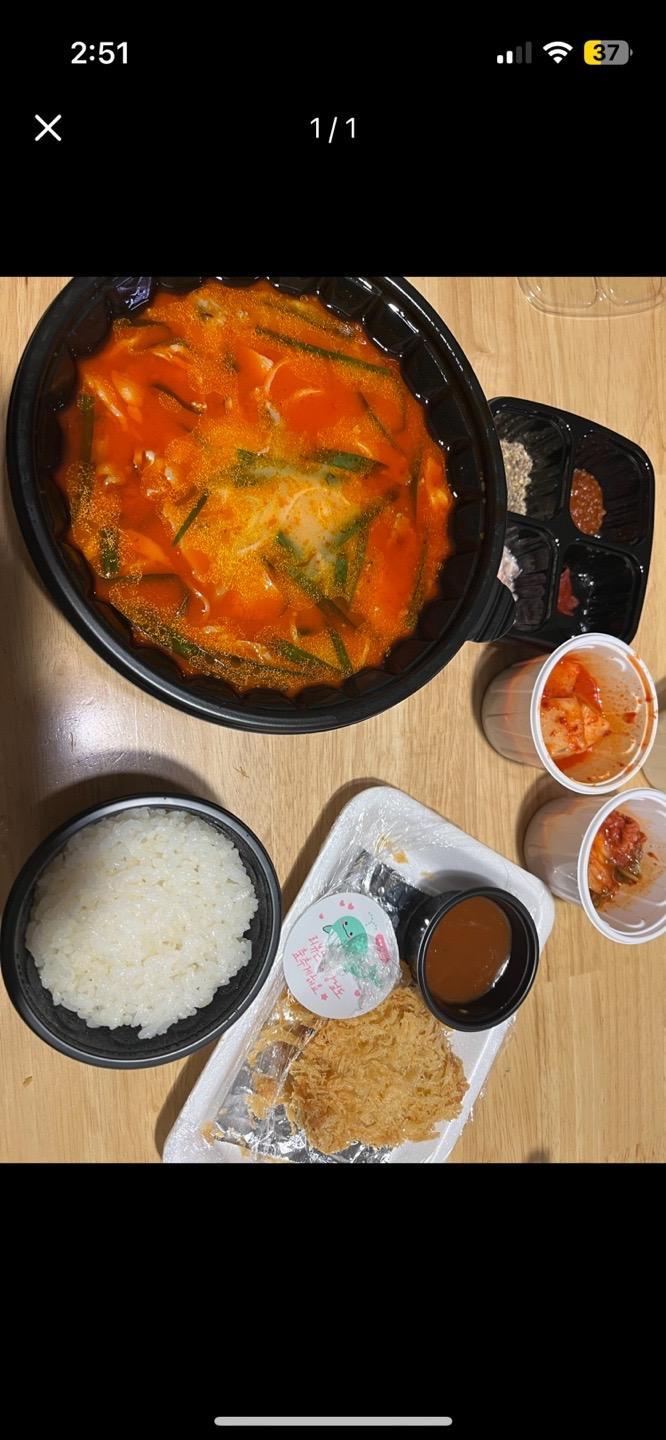Lunch Box: (8, 277, 512, 733), (163, 786, 552, 1162), (0, 795, 281, 1068), (490, 397, 654, 648)
cup: (481, 633, 657, 794), (524, 788, 665, 944)
